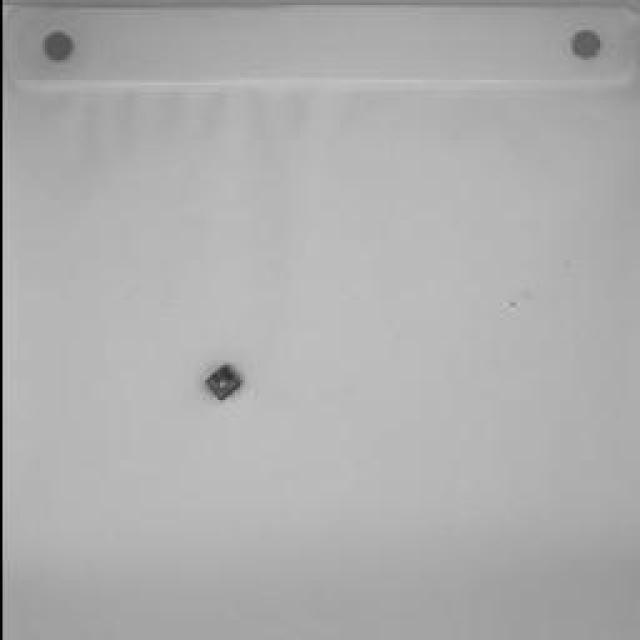dice_1: (201, 364, 241, 401)
